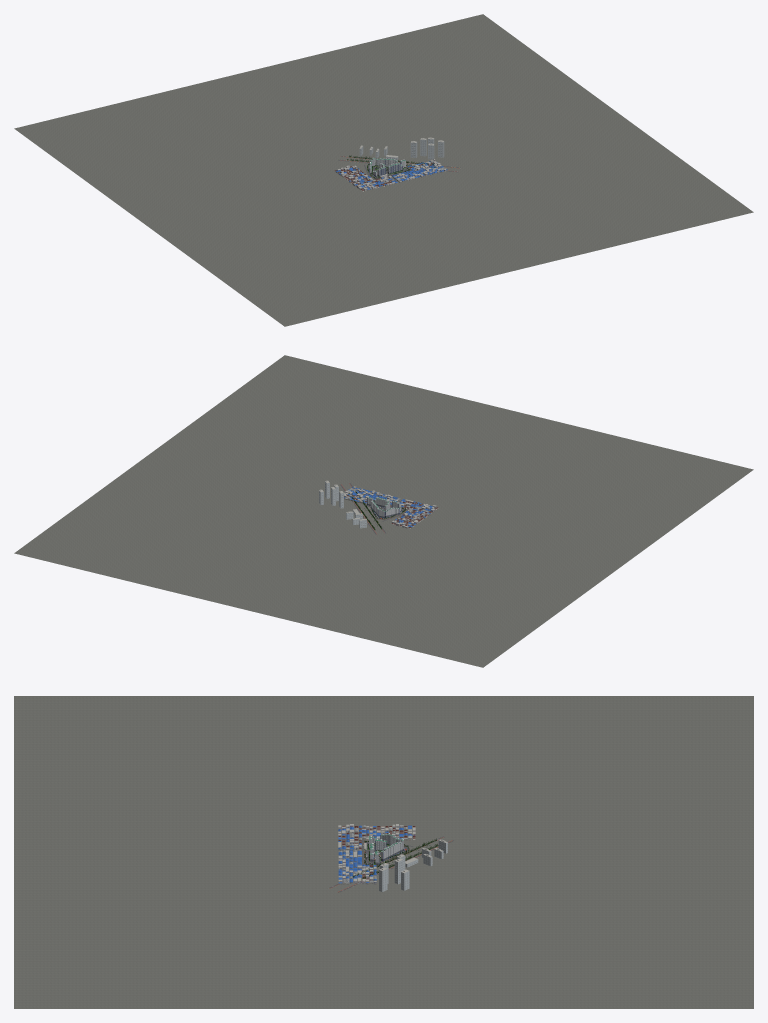
File: hwawon_taewang.glb
3 renders of one model, top to bottom at view 1: azimuth 30°, elevation 25°; view 2: azimuth 150°, elevation 25°; view 3: azimuth 270°, elevation 25°, orthographic. The views are drawn at different scales.
Parts seen in each view (by area): view 1: Ground, Context; view 2: Ground, Context; view 3: Ground, Context.
Part boxes in pixels (x1,y1,x2,y2): Ground: (14,14,753,326); Context: (334,137,448,191); Ground: (14,355,753,667); Context: (319,480,438,528); Ground: (14,696,753,1008); Context: (338,824,447,891).
Size of the model in its own units: 3200 by 113 by 3200.
Materials: 95 (53 with a texture image).
